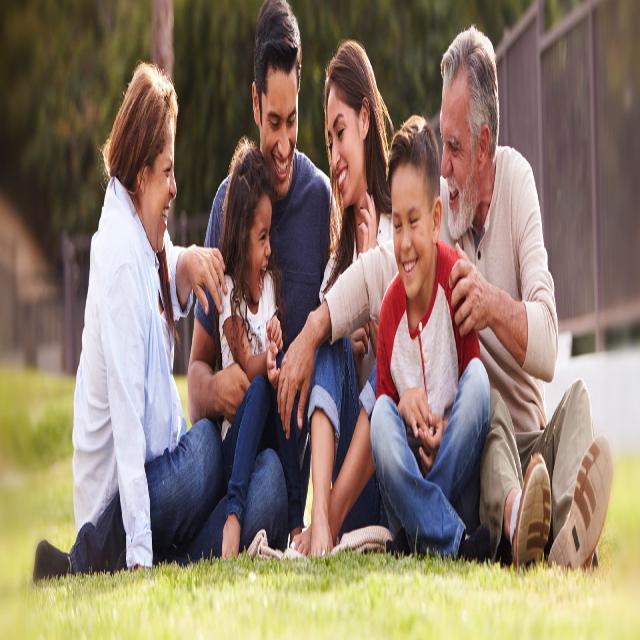adult: (277, 25, 613, 569), (33, 0, 334, 581), (72, 59, 226, 576), (290, 42, 400, 566)
child: (370, 116, 490, 557), (218, 141, 285, 559)
